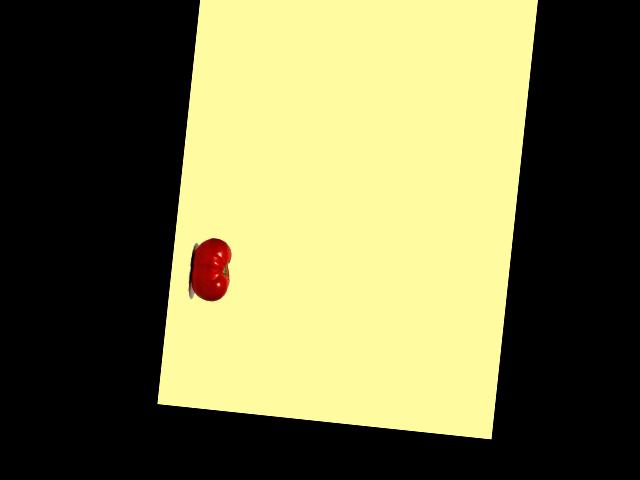tomato: (188, 235, 233, 302)
